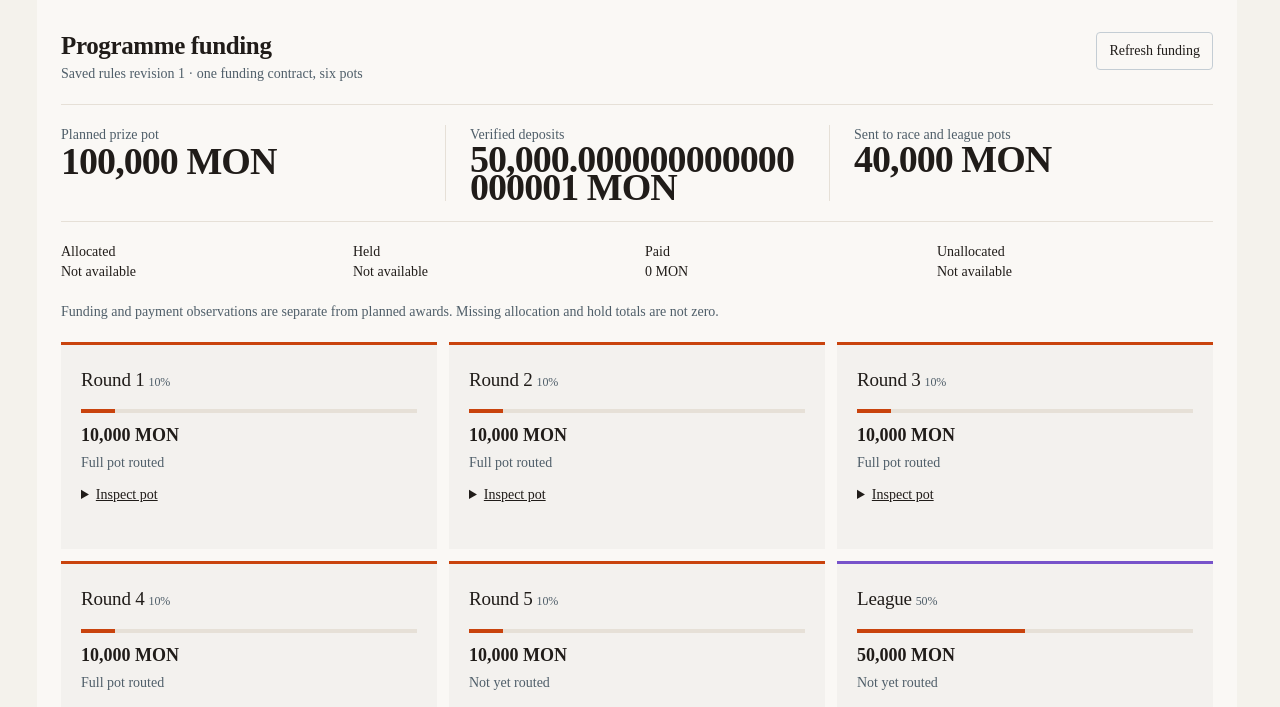
Test: shows exact deposited wei, four routed pots and two retained future pots without payment controls
Expected: the text "50,000.000000000000000001 MON" is shown, [470,145,805,201]
Expected: the text "Full pot routed" is shown 4 times, [81,455,164,470]; [469,455,552,470]; [857,455,940,470]; [81,675,164,690]
Click the heading "Inspect pot" below "Round 1".
click(127, 495)  # box [96,487,158,502]
(page scrolled)
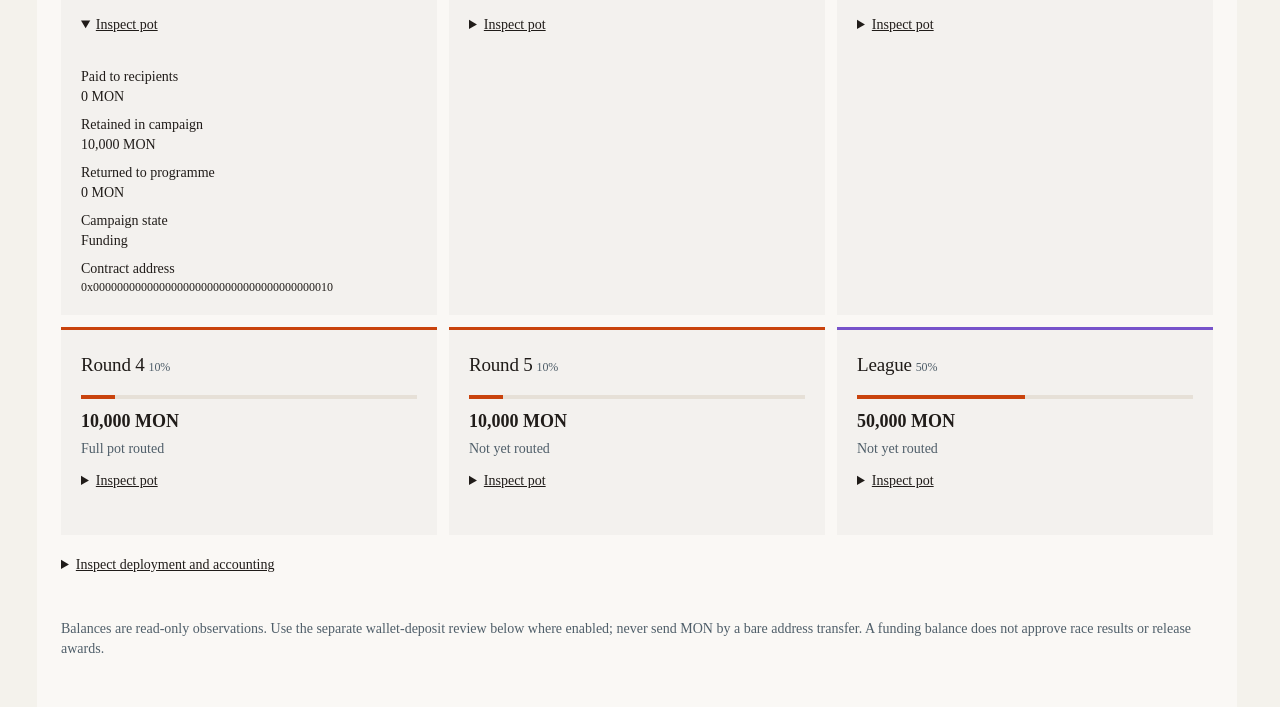
Click the heading "Inspect deployment and accounting".
click(175, 564)  # box [76,557,274,572]
(page scrolled)
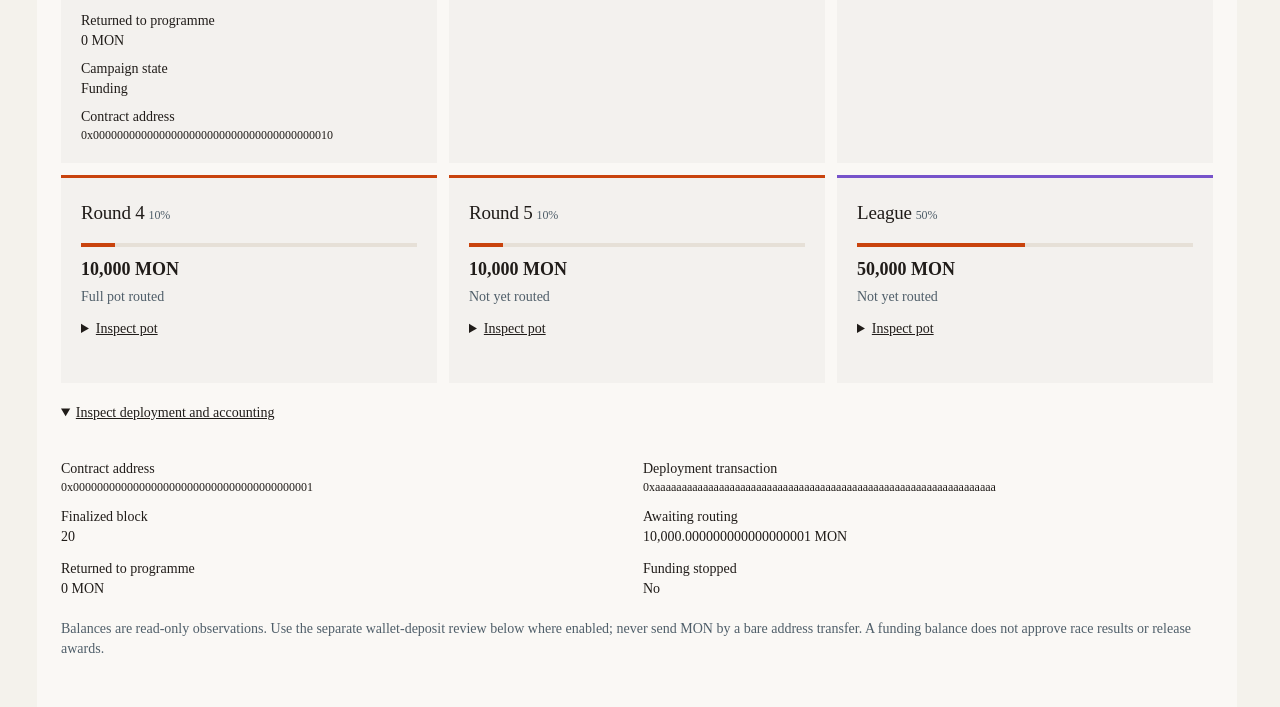
Expected: the text "funding balance does not approve race results" is shown, [61,621,1191,656]
Now the text "0x0000000000000000000000000000000000000001" is shown, box [61,480,313,494]
